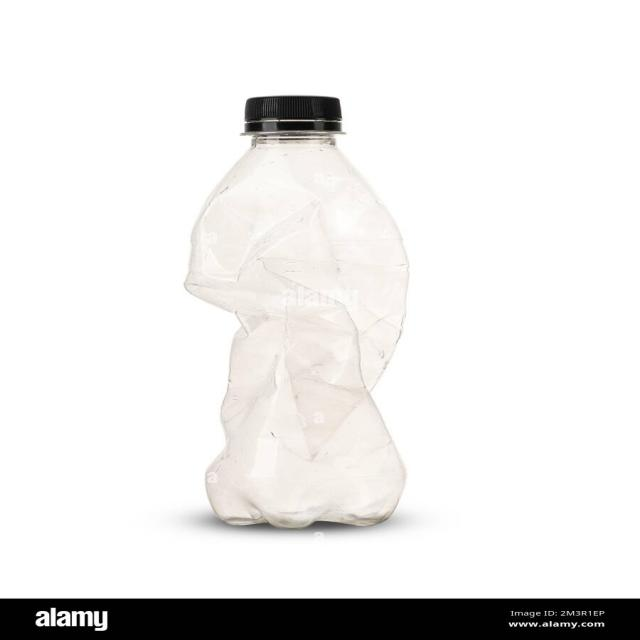Botella Plastica: (174, 92, 411, 521)
